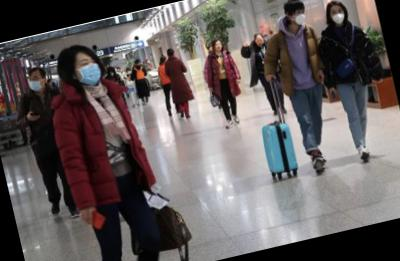with_mask: (73, 53, 105, 89), (26, 72, 46, 93), (329, 4, 347, 25), (293, 8, 309, 26)
without_mask: (253, 34, 265, 46), (213, 41, 224, 50)
